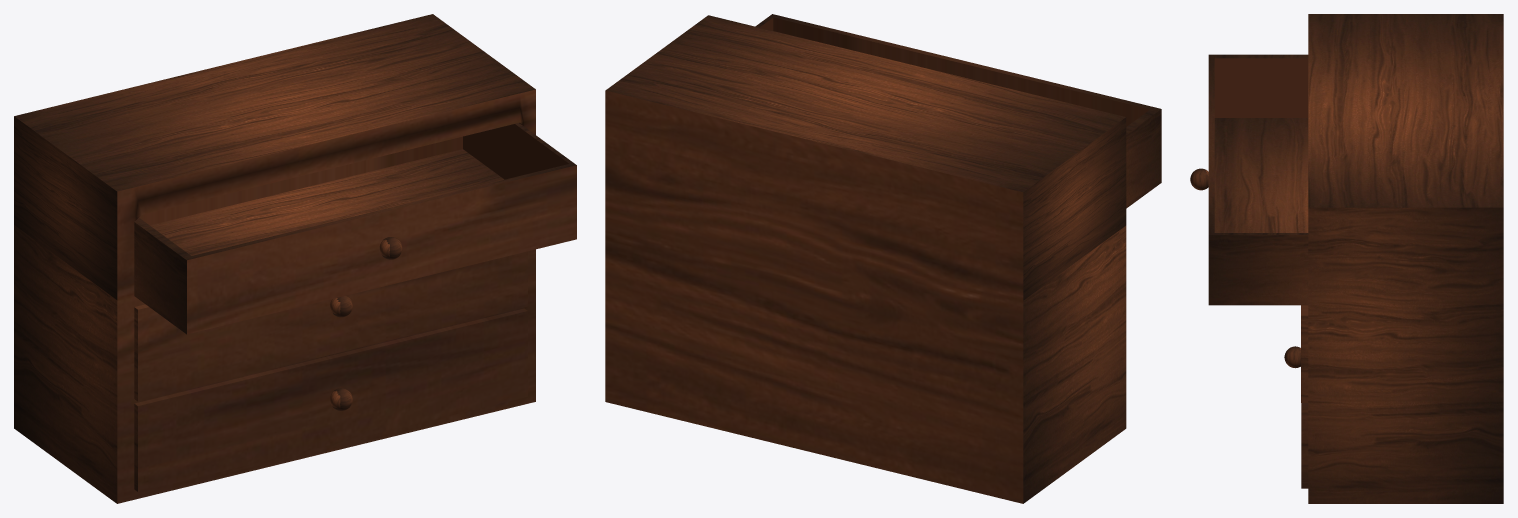
File: closet.fbx
The picture shows the model from 3 angles, left to right: view 1: azimuth 30°, elevation 25°; view 2: azimuth 150°, elevation 25°; view 3: azimuth 270°, elevation 25°; orthographic projection. The views are drawn at different scales.
Parts seen in each view (by area): view 1: pCube1; view 2: pCube1; view 3: pCube1, pSphere1.
Boxes of the visible parts, x1=… form: pCube1: x1=14, y1=14, x2=576, y2=503; pCube1: x1=605, y1=14, x2=1161, y2=503; pCube1: x1=1208, y1=14, x2=1503, y2=503; pSphere1: x1=1190, y1=168, x2=1208, y2=190.
Bounding box in the file's own units: 23.24 × 16.56 × 15.88.
